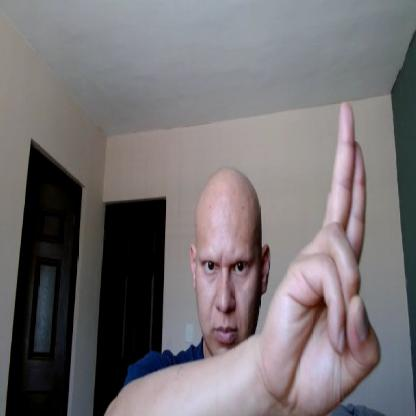U: (263, 100, 383, 415)
